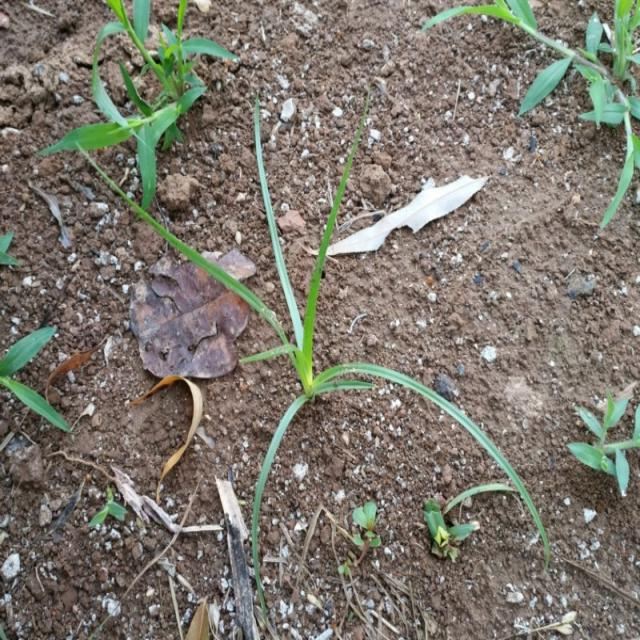sedge: (127, 140, 494, 514)
